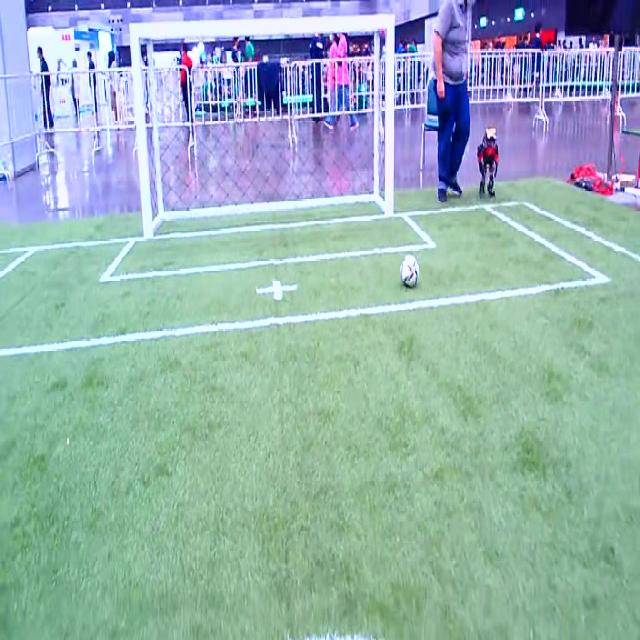ball: (400, 254, 420, 288)
